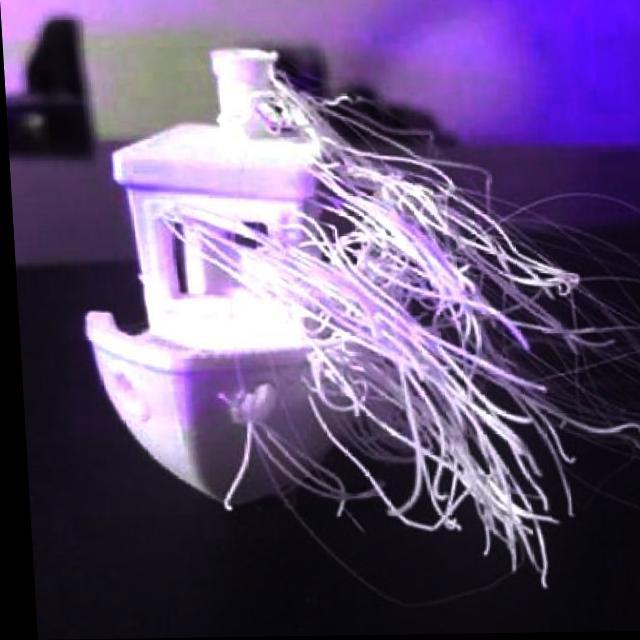spaghetti: (149, 61, 640, 610)
